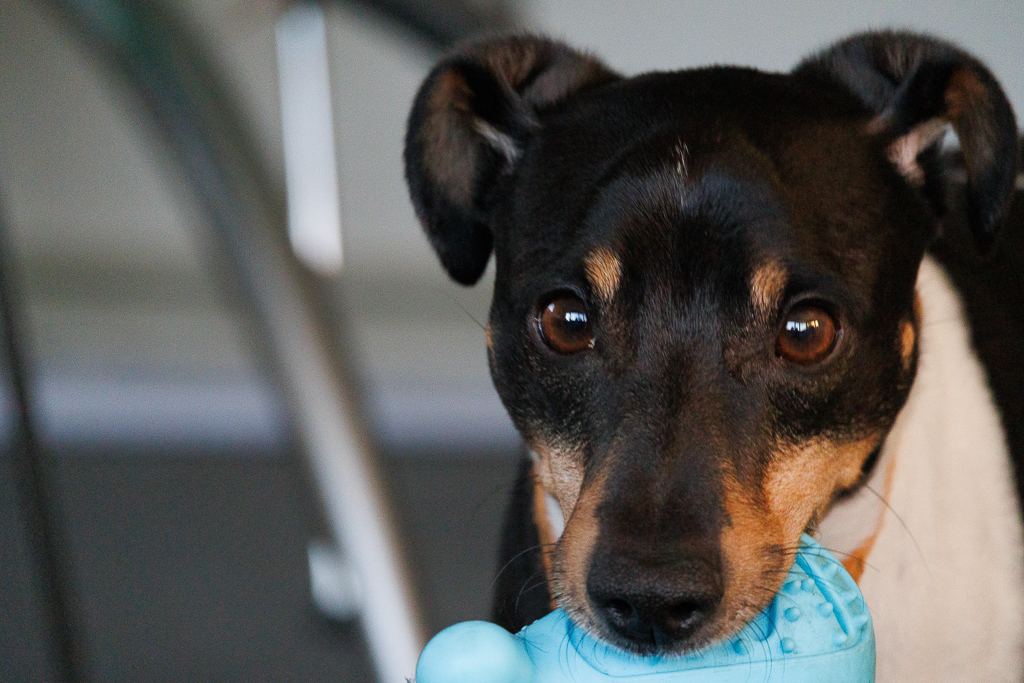Dog: (399, 14, 1024, 683)
